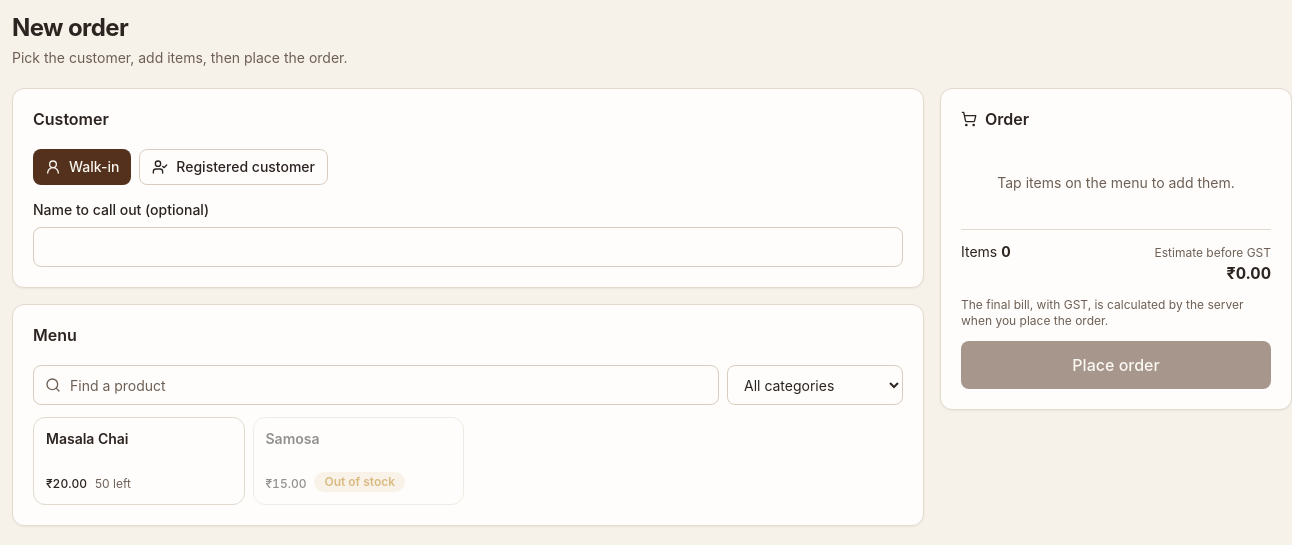
Test: POS with a registered customer › needs a customer to be selected before the order can be placed
Click the button "Masala Chai ₹20.00 50 left".
click(139, 461)  # box [33,417,244,505]
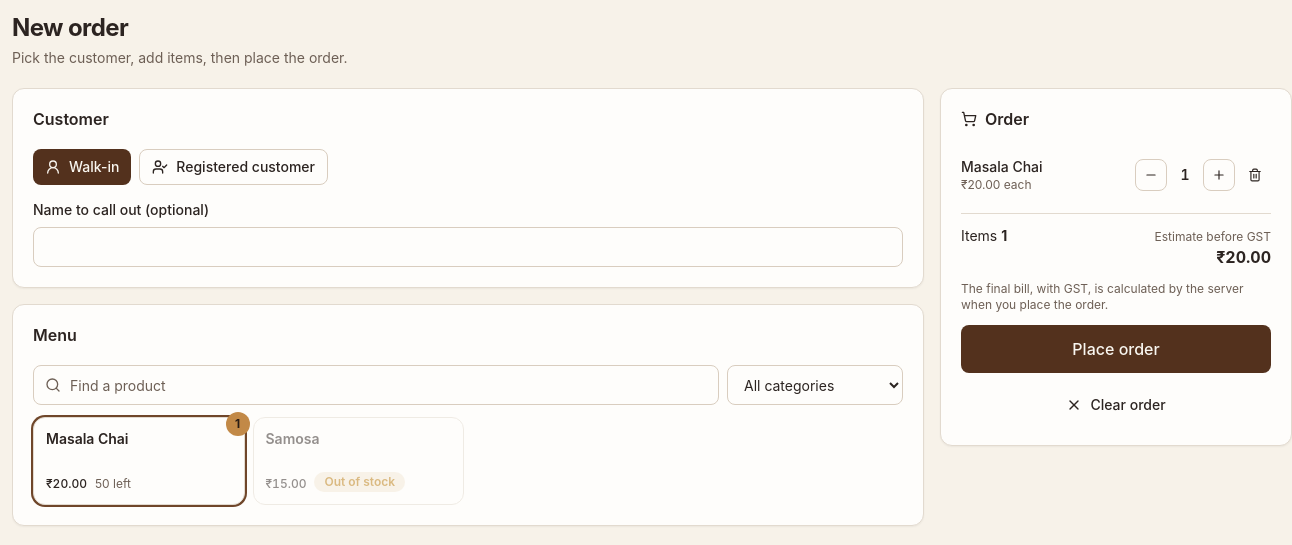
Click the button "Registered customer".
click(234, 167)  # box [139,149,328,185]
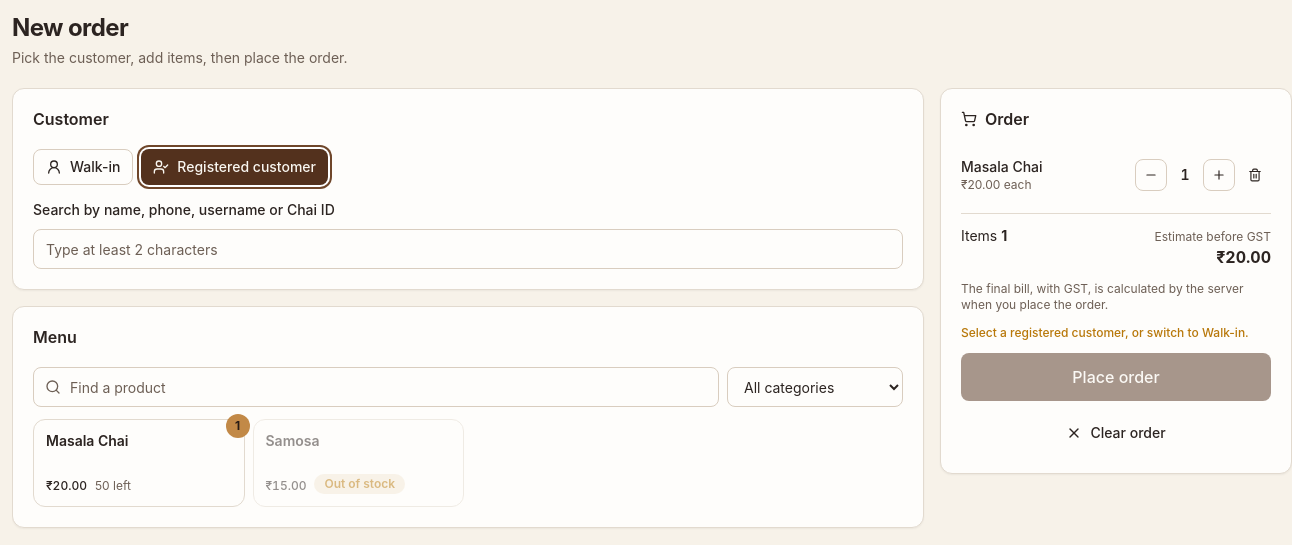
Expected: the button "Place order" is disabled, [961,353,1271,401]
Expected: the text "Select a registered customer, or switch to Walk-in." is shown, [961,325,1271,341]
